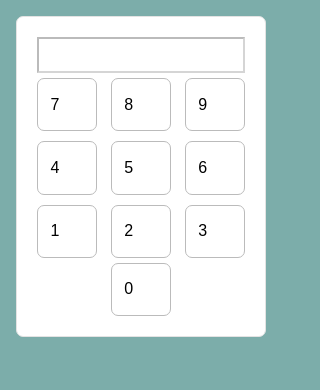
Test: checks if entering the correct pin works
This screenshot has width=320, height=390.
Click the button with test id "button-1" at {"x": 67, "y": 231}, box [37,204,97,258]
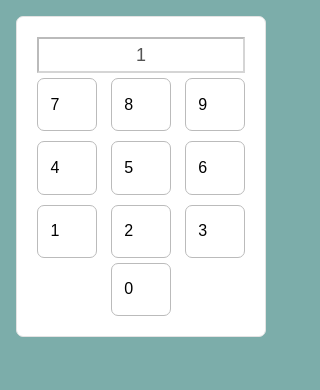
Click the button with test id "button-2" at {"x": 141, "y": 231}, box [111,204,171,258]
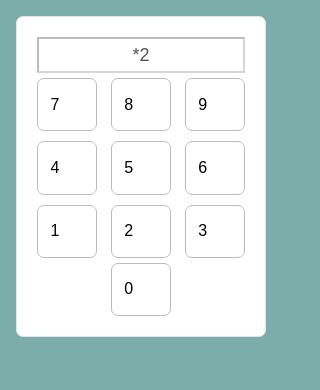
Click the button with test id "button-3" at {"x": 215, "y": 231}, box [185,204,245,258]
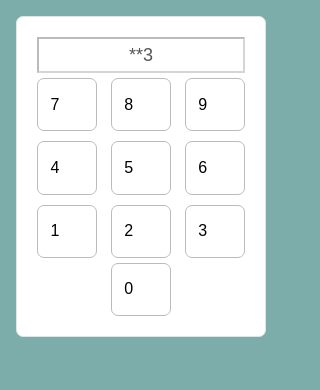
Click the button with test id "button-4" at {"x": 67, "y": 168}, box [37,141,97,195]
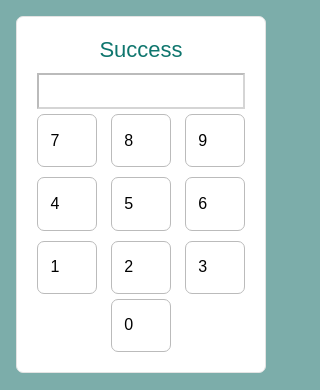
Check: the text "Success" is shown, box [99,37,183,62]
